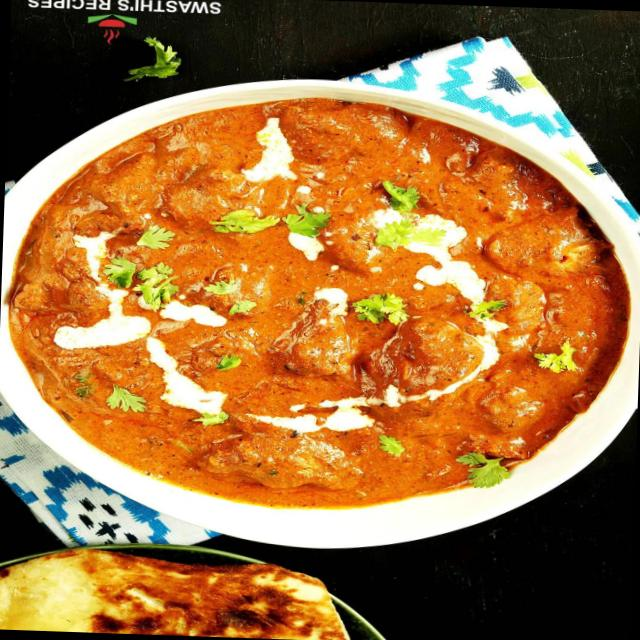chicken: (17, 84, 608, 536)
roti: (0, 544, 360, 632)
